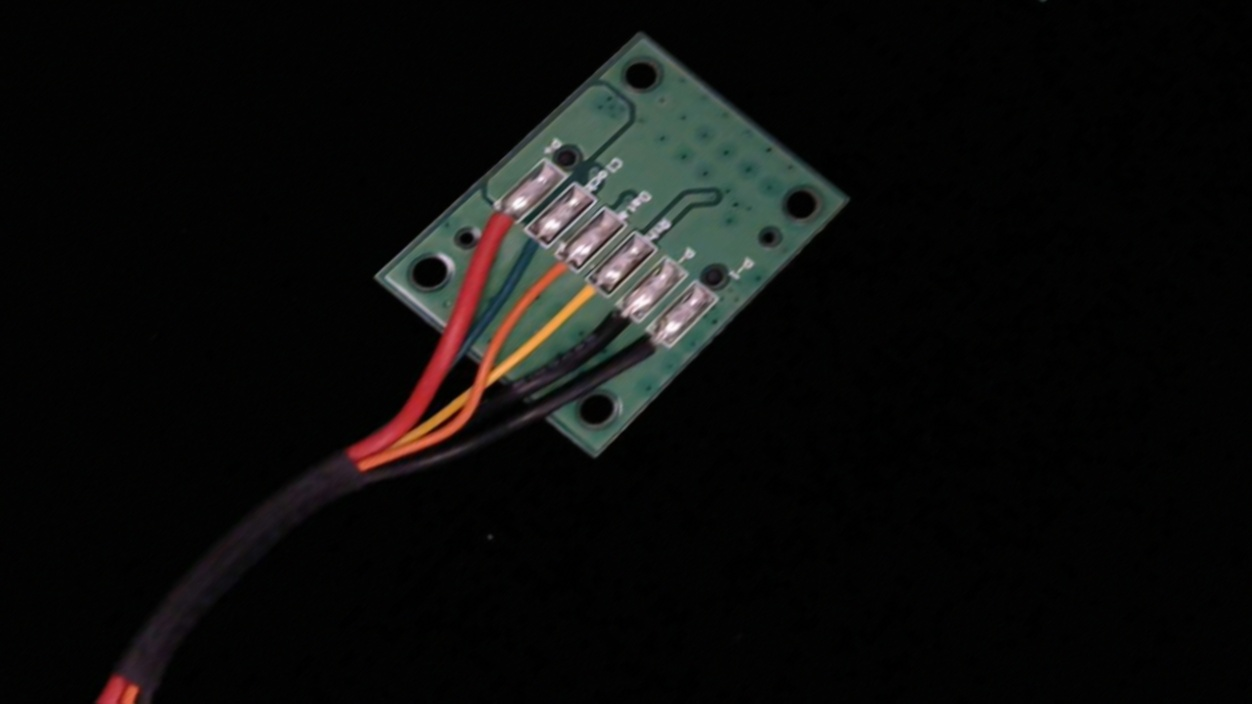Black: (571, 287, 661, 368)
Black1: (606, 315, 691, 391)
Green: (489, 215, 567, 282)
Orange: (509, 240, 597, 318)
Red: (448, 191, 536, 267)
Yellow: (535, 262, 626, 343)
